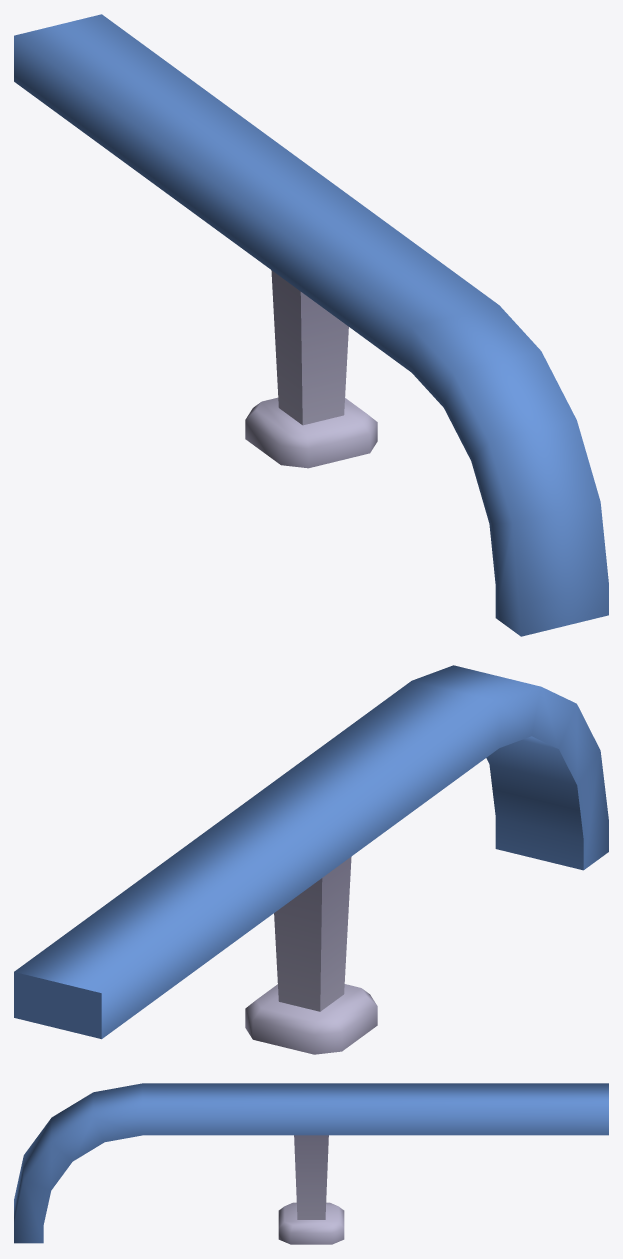
Rendered from rail-low-end.glb.
3 renders of one model, top to bottom at view 1: azimuth 30°, elevation 25°; view 2: azimuth 150°, elevation 25°; view 3: azimuth 270°, elevation 25°, orthographic. The views are drawn at different scales.
Visible parts, largest first — view 1: rail-low-end; view 2: rail-low-end; view 3: rail-low-end.
Part boxes in pixels (x1,y1,x2,y2): rail-low-end: [14, 14, 608, 636]; rail-low-end: [14, 665, 608, 1054]; rail-low-end: [14, 1083, 608, 1244].
Size of the model in its own units: 0.11 by 0.25 by 1.
1 material, 1 textured.
